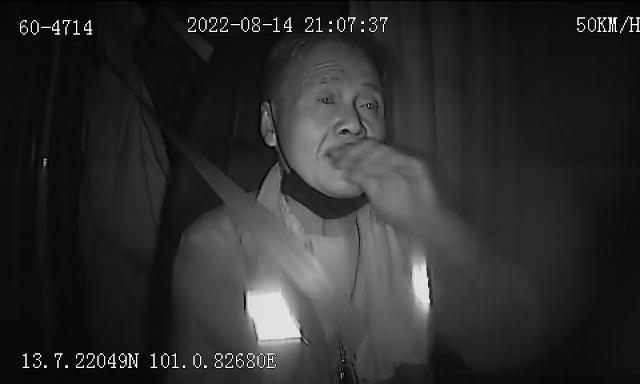SafeDriving: (352, 88, 384, 116), (312, 84, 342, 113)
Seatbelt: (186, 152, 357, 342)
